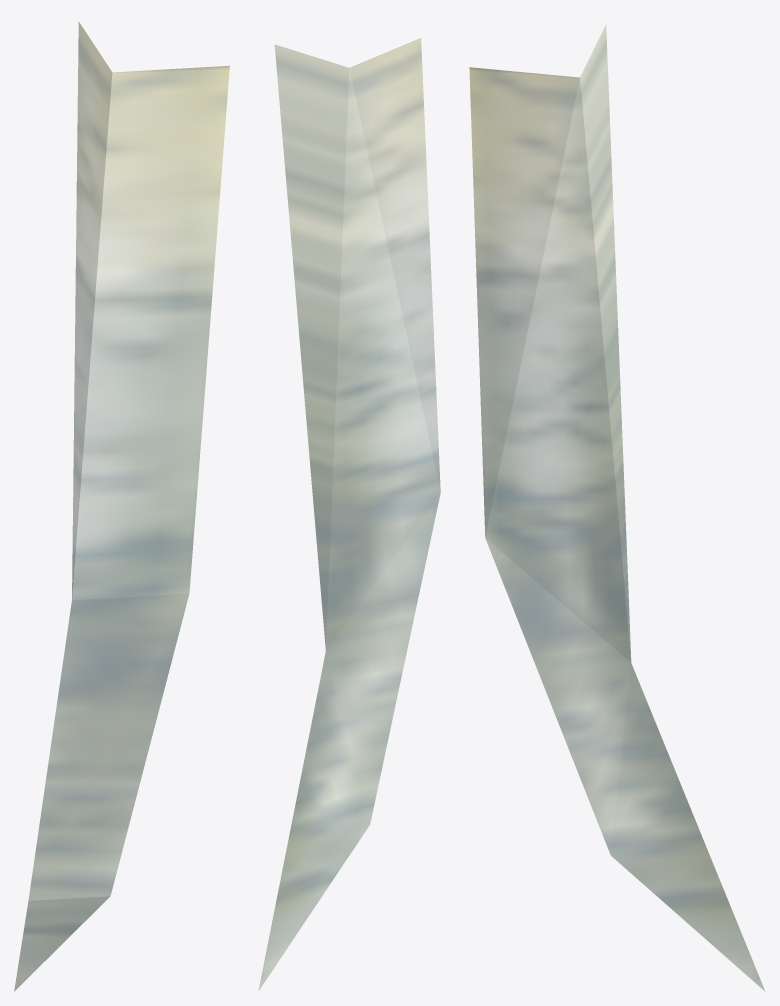
File: rib15.glb
3 views of the same model, side by side, from view 1: azimuth 30°, elevation 25°; view 2: azimuth 150°, elevation 25°; view 3: azimuth 270°, elevation 25° (orthographic). The views are drawn at different scales.
Visible parts, largest first — view 1: rib15; view 2: rib15; view 3: rib15.
Part boxes in pixels (box(x1,y1,x2,y2)): rib15: box(14, 21, 229, 991); rib15: box(258, 38, 440, 991); rib15: box(469, 24, 765, 991).
Bounding box in the file's own units: 384 × 2377 × 666.
Materials: 1 (1 with a texture image).
